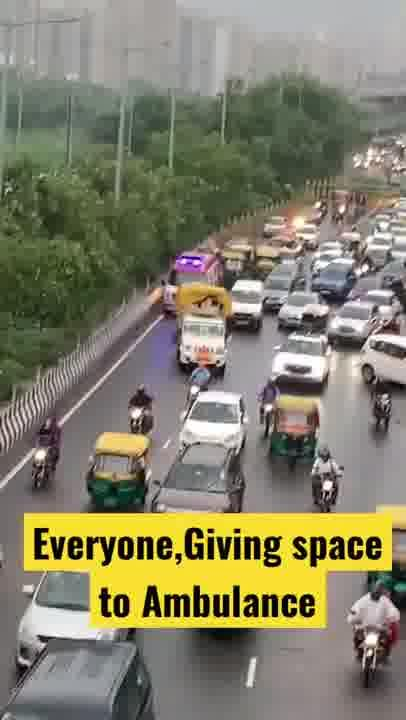AMBULANCE: (160, 250, 226, 304)
